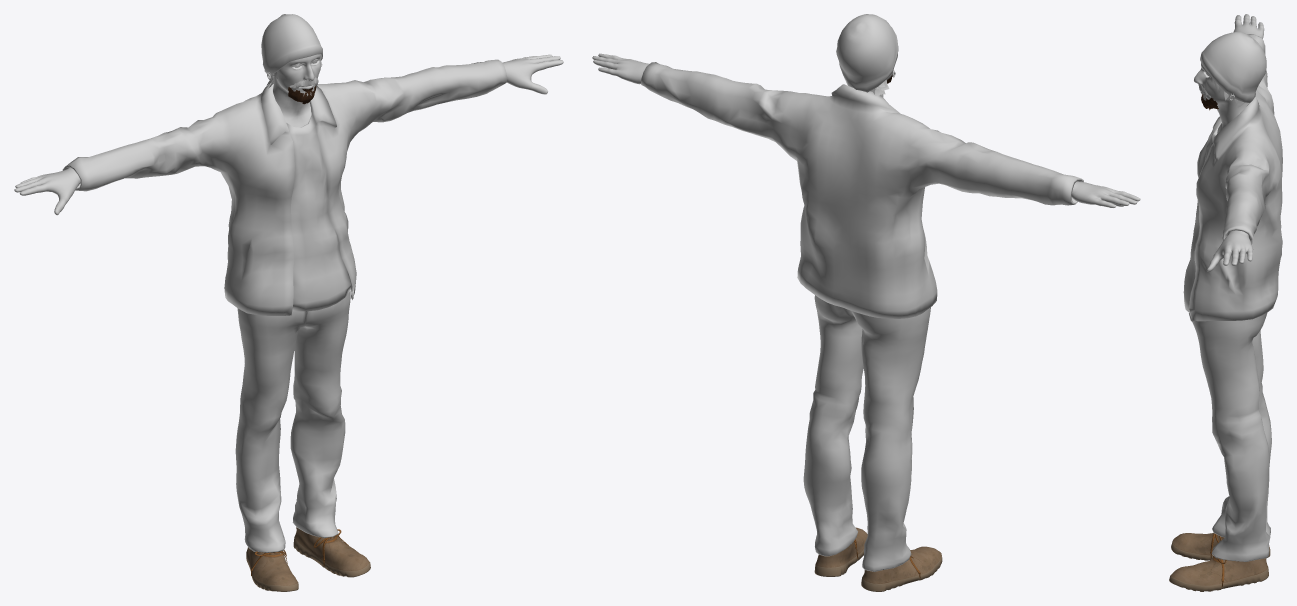
File: Johny.fbx
3 renders of one model, left to right at view 1: azimuth 30°, elevation 25°; view 2: azimuth 150°, elevation 25°; view 3: azimuth 270°, elevation 25°, orthographic. The views are drawn at different scales.
Visible parts, largest first — view 1: Johny:Tops, Johny:Bottoms, Johny:Body, Johny:Shoes, Johny:Hats; view 2: Johny:Tops, Johny:Bottoms, Johny:Hats, Johny:Shoes, Johny:Body; view 3: Johny:Tops, Johny:Bottoms, Johny:Shoes, Johny:Hats, Johny:Body.
Boxes of the visible parts, x1,y1,x2,y2 form: Johny:Tops: (62, 59, 507, 315); Johny:Bottoms: (235, 291, 350, 552); Johny:Body: (14, 54, 563, 215); Johny:Shoes: (246, 527, 370, 591); Johny:Hats: (261, 14, 322, 79); Johny:Tops: (641, 62, 1083, 318); Johny:Bottoms: (803, 295, 930, 571); Johny:Hats: (836, 14, 898, 92); Johny:Shoes: (814, 527, 942, 591); Johny:Body: (592, 53, 1140, 207); Johny:Tops: (1183, 34, 1282, 321); Johny:Bottoms: (1192, 313, 1271, 561); Johny:Shoes: (1169, 533, 1270, 591); Johny:Hats: (1200, 32, 1266, 102); Johny:Body: (1194, 14, 1264, 271).
Bounding box in the file's own units: 193 × 188 × 36.26.
